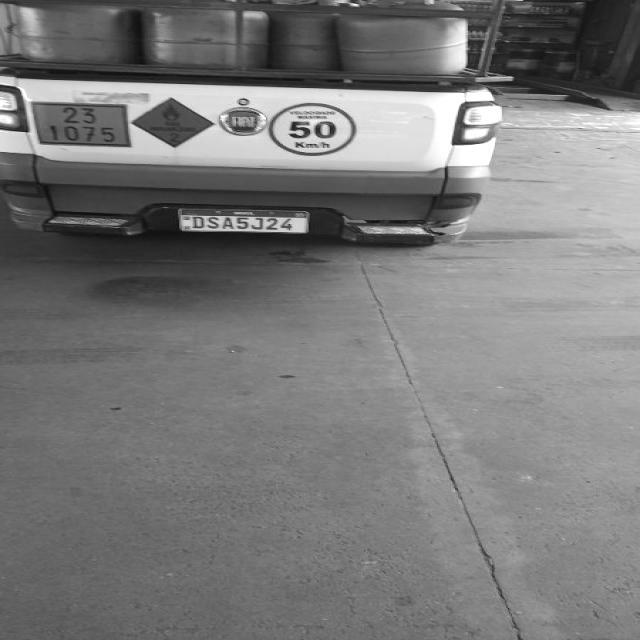placa_mercosul: (179, 209, 308, 231)
